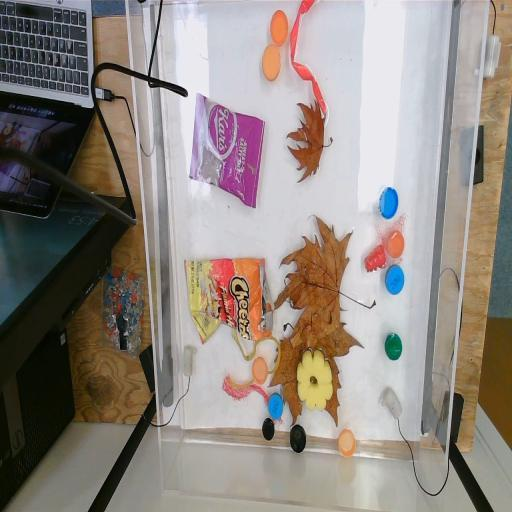Bottle Cap: (262, 44, 282, 82), (379, 186, 399, 220), (270, 10, 288, 47), (385, 264, 405, 296), (338, 428, 356, 458), (384, 332, 402, 360), (388, 230, 405, 259), (290, 424, 306, 454), (252, 356, 268, 385), (268, 392, 284, 420), (262, 418, 275, 441)
Cone Cap: (364, 244, 386, 273)
Leaf: (274, 212, 376, 342), (269, 310, 365, 428), (286, 100, 332, 184)
Netting: (222, 373, 283, 426), (373, 211, 408, 268)
Plastic Bag: (188, 90, 266, 210), (183, 258, 274, 346)
Plastic Strand: (290, 0, 326, 115), (230, 327, 282, 389)
Sponge: (297, 349, 333, 412)
